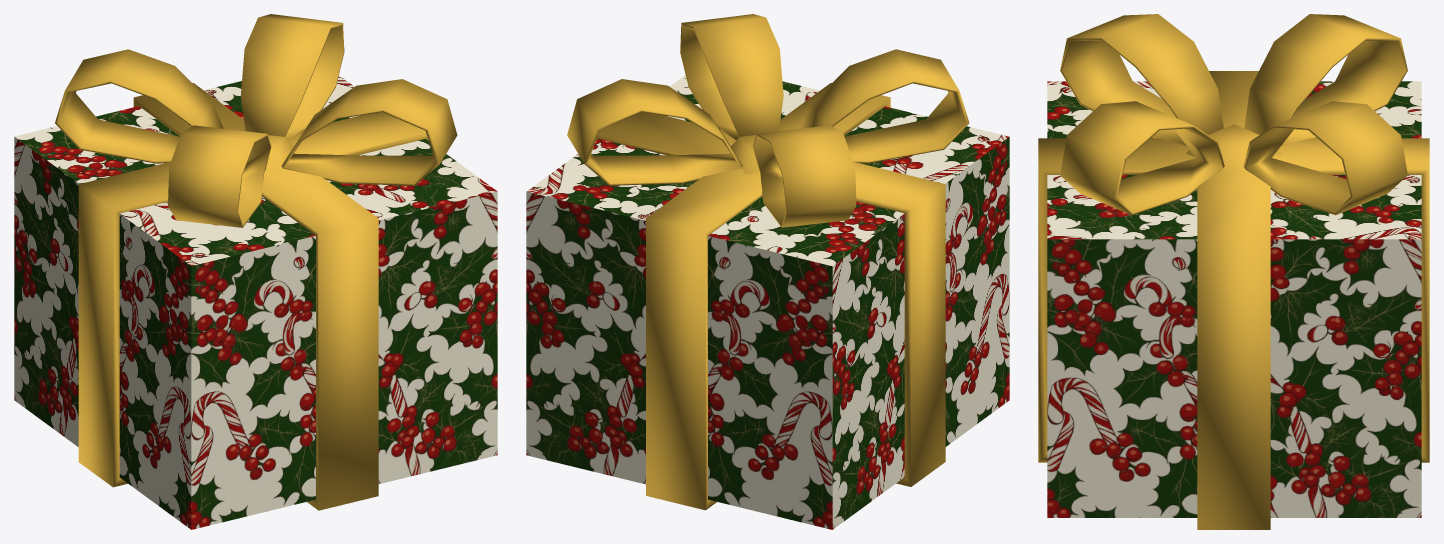
Rendered from giftBigWhite3.glb.
3 renders of one model, left to right at view 1: azimuth 30°, elevation 25°; view 2: azimuth 150°, elevation 25°; view 3: azimuth 270°, elevation 25°, orthographic. The views are drawn at different scales.
Visible parts, largest first — view 1: GiftBigWhite3; view 2: GiftBigWhite3; view 3: GiftBigWhite3.
Part boxes in pixels (left/top/right/bottom): GiftBigWhite3: left=14, top=14, right=497, bottom=529; GiftBigWhite3: left=526, top=14, right=1009, bottom=529; GiftBigWhite3: left=1038, top=14, right=1429, bottom=529.
Size of what is drawn, in the model's own units: 0.9149 by 0.9717 by 0.9149.
2 materials, 2 textured.
